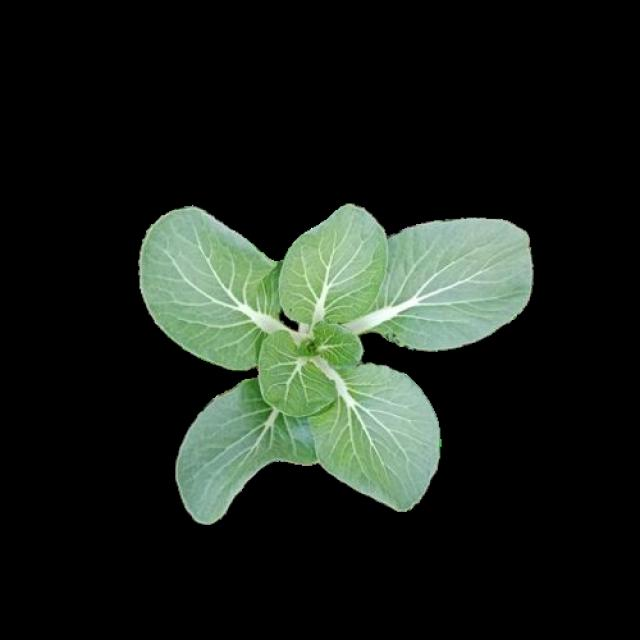healthy: (141, 202, 527, 515)
not-mature: (143, 205, 530, 517)
